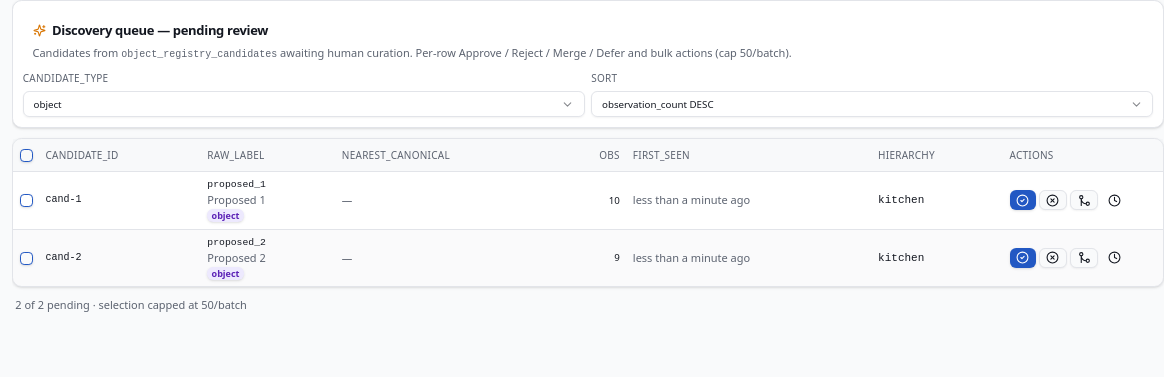
it: ObjectRegistryDiscoveryQueueTab › bulk action toolbar surfaces Merge + Reject when ≥1 selected
The image size is (1164, 377).
What coordinates should you click on to do the following:
click the checkbox with test id "row-checkbox-cand-1"
I would click on:
 (26, 200)
Its box is [20,194,32,207].
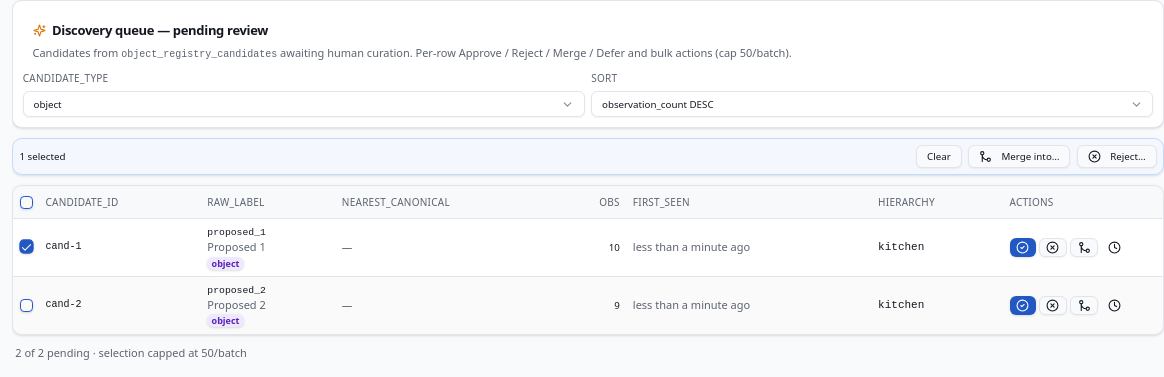
Expected: the button with test id "bulk-merge-button" is shown, [968,145,1070,168]
Expected: the button with test id "bulk-reject-button" is shown, [1077,145,1157,168]
